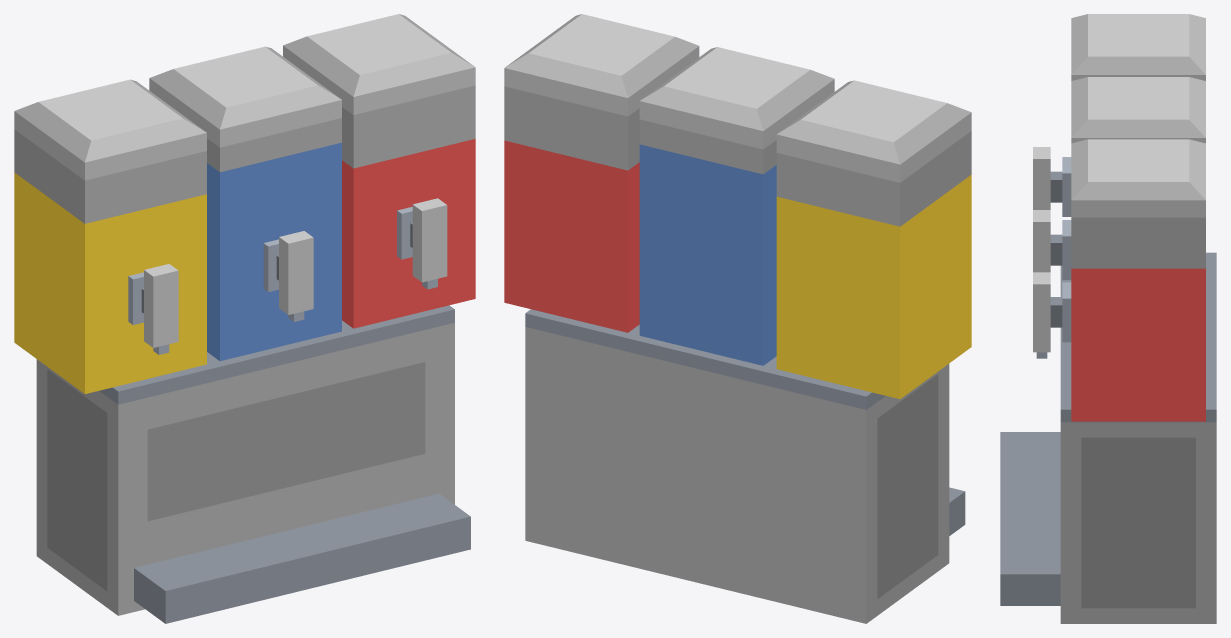
Rendered from SlushieMachine.glb.
3 renders of one model, left to right at view 1: azimuth 30°, elevation 25°; view 2: azimuth 150°, elevation 25°; view 3: azimuth 270°, elevation 25°, orthographic. The views are drawn at different scales.
Visible parts, largest first — view 1: SI_Prop_SlushieMachine_01; view 2: SI_Prop_SlushieMachine_01; view 3: SI_Prop_SlushieMachine_01.
Boxes of the visible parts, x1,y1,x2,y2 form: SI_Prop_SlushieMachine_01: [14, 14, 475, 623]; SI_Prop_SlushieMachine_01: [504, 14, 971, 623]; SI_Prop_SlushieMachine_01: [1000, 14, 1216, 623].
Bounding box in the file's own units: 0.0149 × 0.017 × 0.00748.
Materials: 1 (1 with a texture image).
